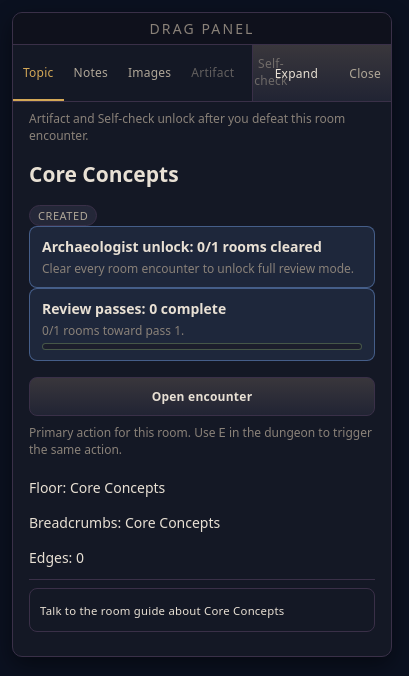
Test: RoomPanel › shows local-image fallback text when attachment token cannot be resolved
Click the tab "Notes" at (91, 73), box [64,45,118,101]
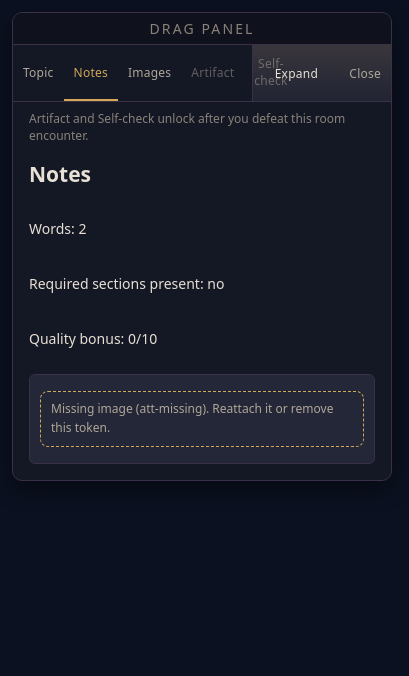
Expected: the text "Missing image (att-missing). Reattach it or remove this token." is shown, [40,391,364,447]
